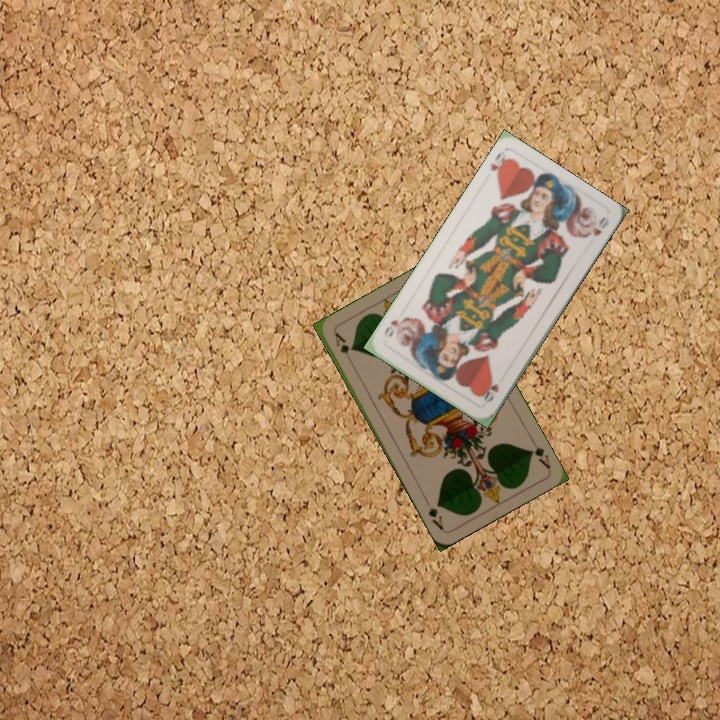GA: (526, 434, 553, 472), (331, 328, 355, 366)
HO: (486, 147, 512, 182), (479, 379, 501, 406)
